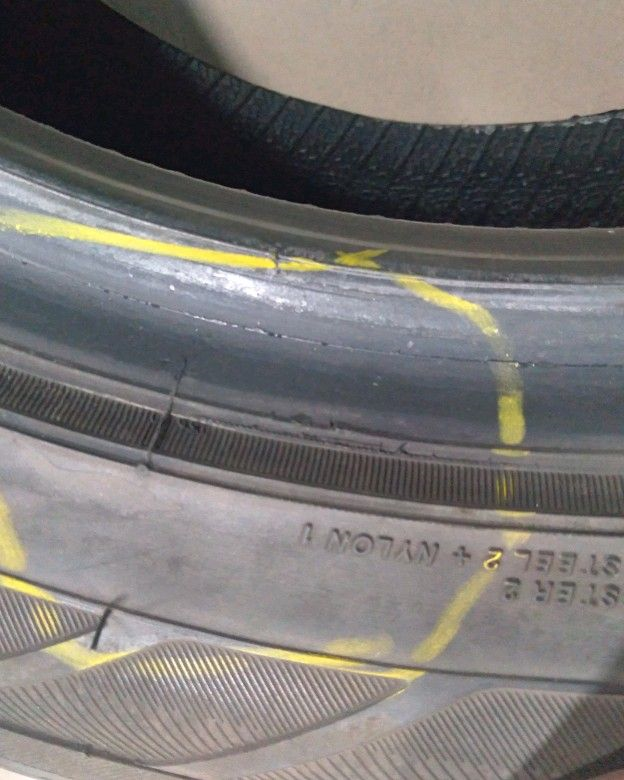cut: (256, 235, 320, 287)
